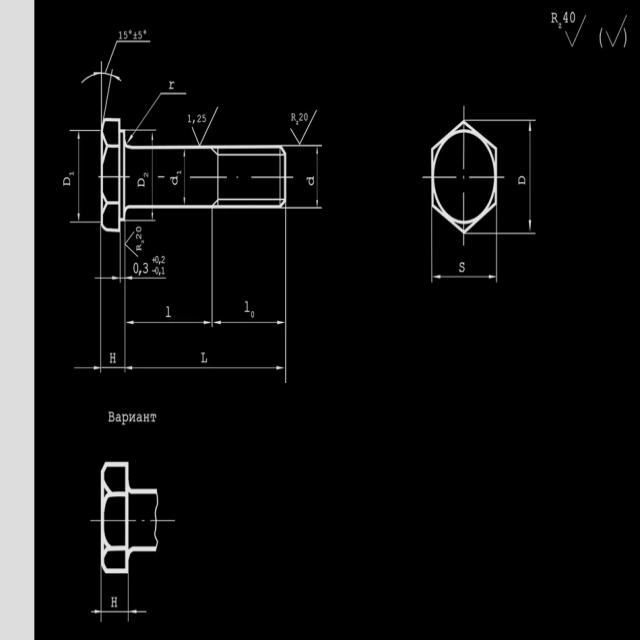marking_line: (124, 89, 186, 145), (81, 61, 124, 118), (126, 364, 284, 374), (126, 317, 210, 330), (73, 131, 84, 222), (527, 122, 535, 233), (214, 317, 285, 329), (314, 148, 324, 205), (149, 133, 155, 220), (434, 274, 496, 282), (182, 149, 188, 204), (125, 229, 136, 257), (70, 364, 100, 373)
numeric: (132, 256, 168, 278), (114, 27, 151, 41), (186, 112, 208, 126), (561, 10, 578, 25), (298, 111, 310, 122)
